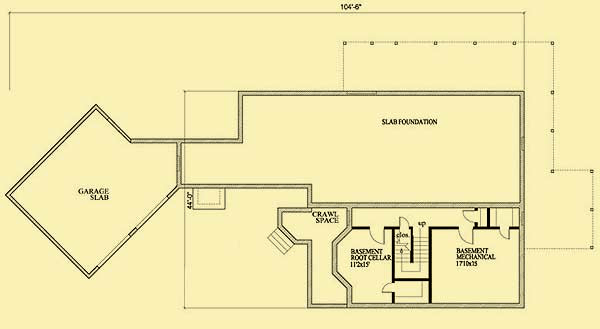door: (456, 226, 475, 245), (368, 225, 386, 245), (460, 209, 480, 225), (496, 226, 512, 240), (380, 282, 395, 294)
stairs: (392, 229, 431, 282)
